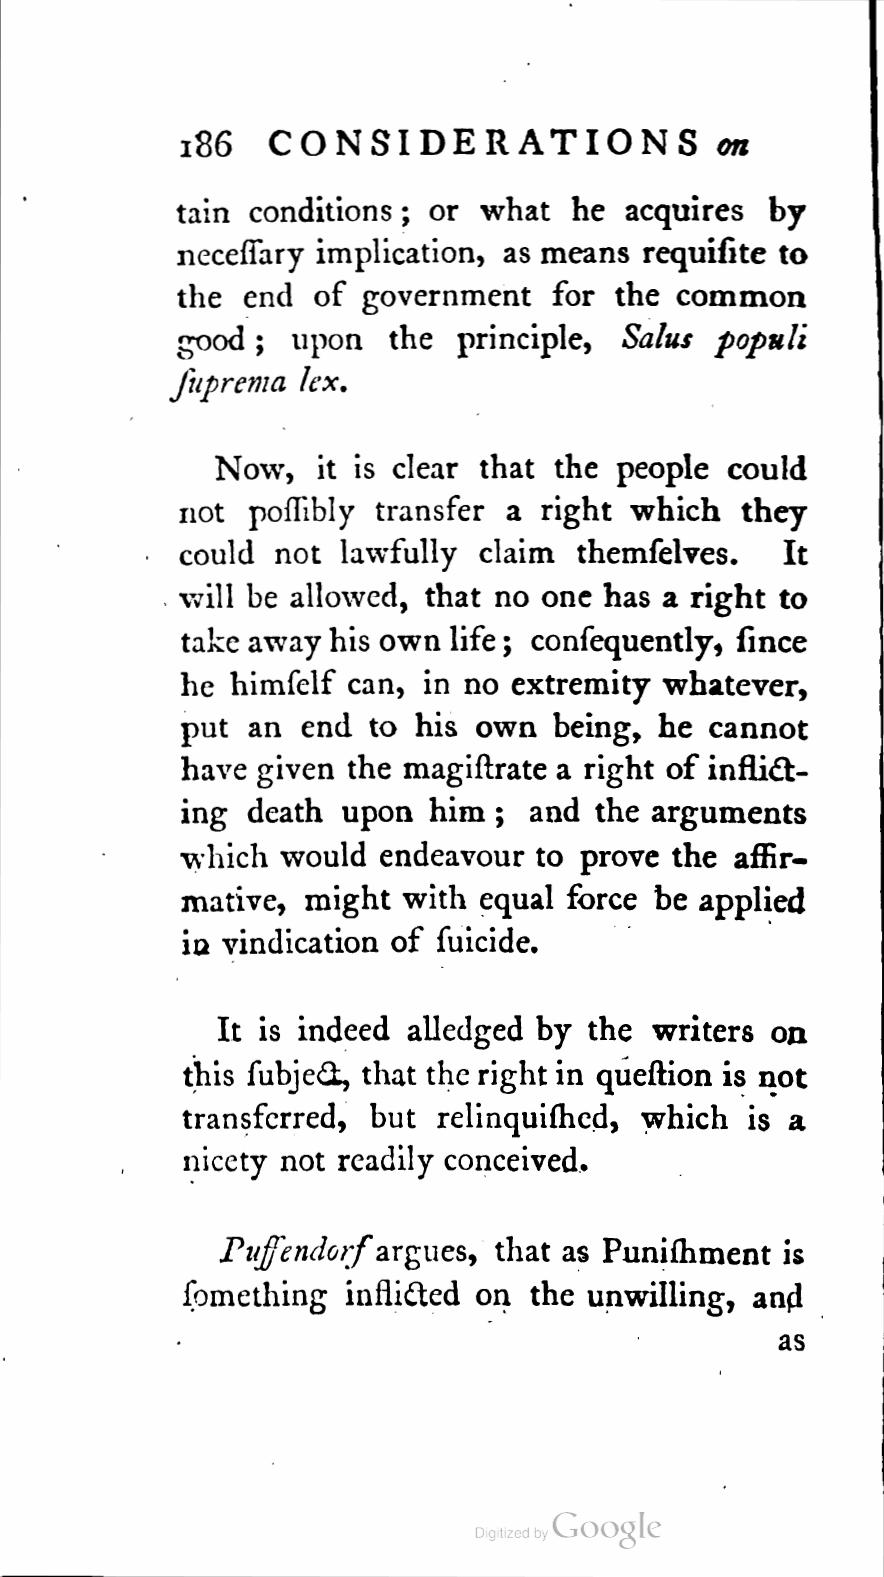bottom_p: (168, 196, 812, 402)
catchword: (770, 1322, 812, 1356)
full_p: (174, 448, 814, 957), (175, 1011, 816, 1180)
header: (268, 123, 756, 164)
page_num: (172, 123, 236, 162)
top_p: (178, 1231, 806, 1314)
